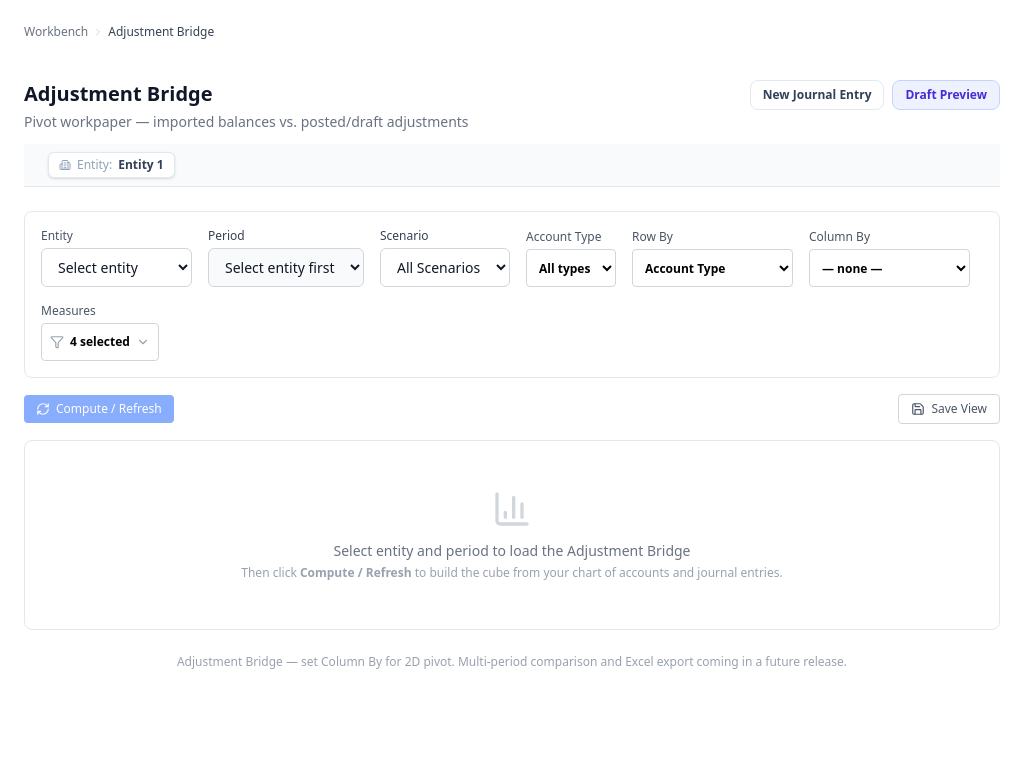
Test: Tier 1.10 Frontend Regression Tests › computes and renders Group summaries and Grand Totals in Adjustment Bridge Pivot Table
Select Entity first
Select "ENT1 — Entity 1" in the dropdown with test id "entity-select". click: coordinates (116, 268)
box: x1=41 y1=248 x2=192 y2=287
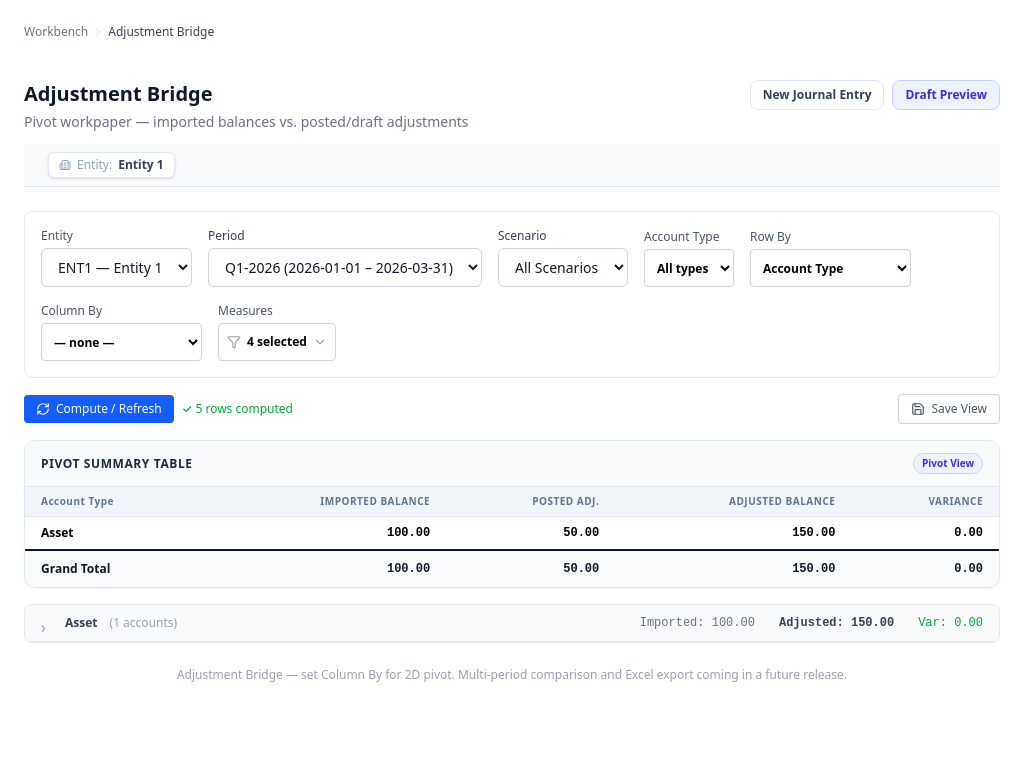
Result: the heading "Pivot Summary Table" is shown at x1=41 y1=456 x2=193 y2=472
Result: the text "Grand Total" is shown at x1=25 y1=550 x2=204 y2=587
